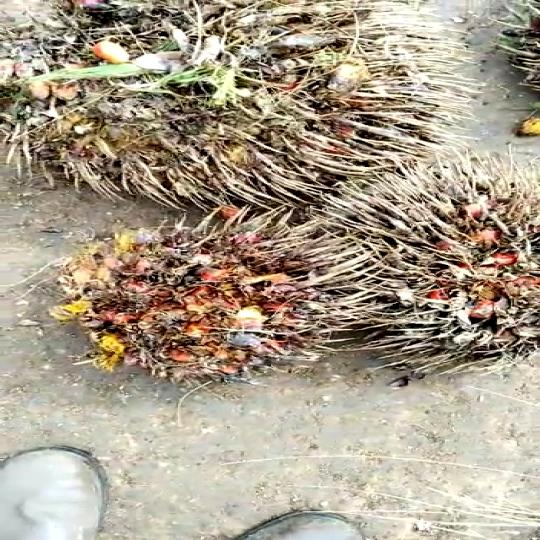terlalu masak: (0, 1, 416, 213), (63, 213, 353, 384), (311, 178, 540, 364)
